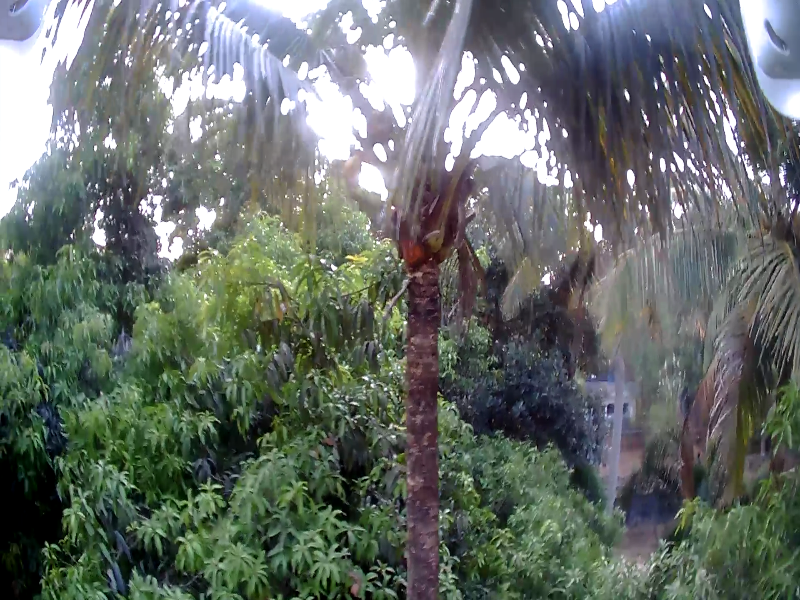coconut: (332, 42, 372, 90)
